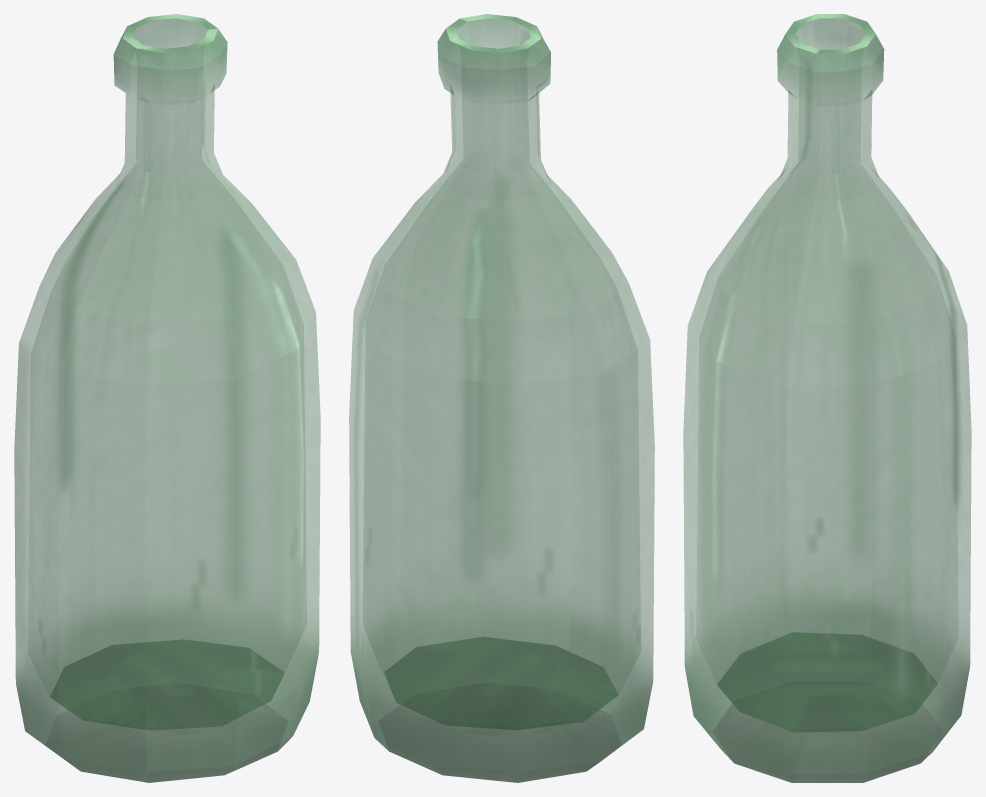
File: Garrafa-de-Vidro-Vazia.glb
3 views of the same model, side by side, from view 1: azimuth 30°, elevation 25°; view 2: azimuth 150°, elevation 25°; view 3: azimuth 270°, elevation 25° (orthographic).
Parts seen in each view (by area): view 1: Garrafa de vidro vazia; view 2: Garrafa de vidro vazia; view 3: Garrafa de vidro vazia.
Boxes of the visible parts, left/top/right/bottom form: Garrafa de vidro vazia: left=14, top=14, right=320, bottom=782; Garrafa de vidro vazia: left=349, top=14, right=654, bottom=782; Garrafa de vidro vazia: left=683, top=14, right=971, bottom=782.
Bounding box in the file's own units: 0.0963 × 0.244 × 0.091.
Materials: 1 (1 with a texture image).
